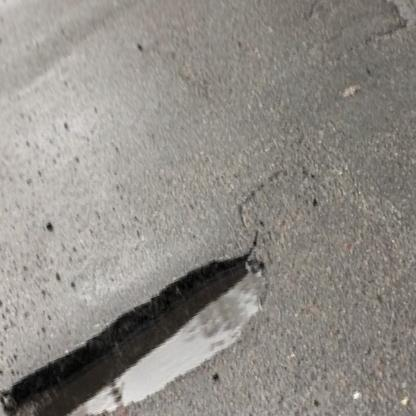pothole: (0, 239, 297, 416)
